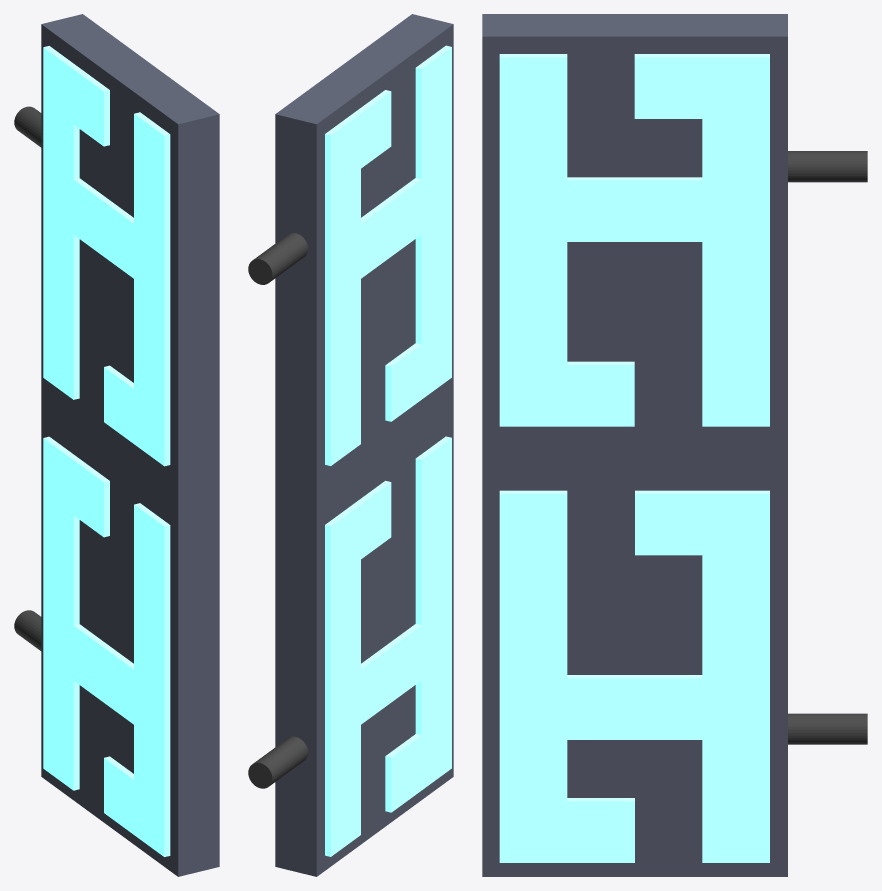
Rendered from AT_TempSign_Tall.fbx.
The picture shows the model from 3 angles, left to right: view 1: azimuth 30°, elevation 25°; view 2: azimuth 150°, elevation 25°; view 3: azimuth 270°, elevation 25°; orthographic projection. The views are drawn at different scales.
Parts seen in each view (by area): view 1: Cube.6054; view 2: Cube.6054; view 3: Cube.6054.
Part boxes in pixels (x1,y1,x2,y2): Cube.6054: (14, 14, 219, 876); Cube.6054: (248, 14, 453, 876); Cube.6054: (482, 14, 867, 876).
Size of the model in its own units: 0.3391 by 4.55 by 1.89.
